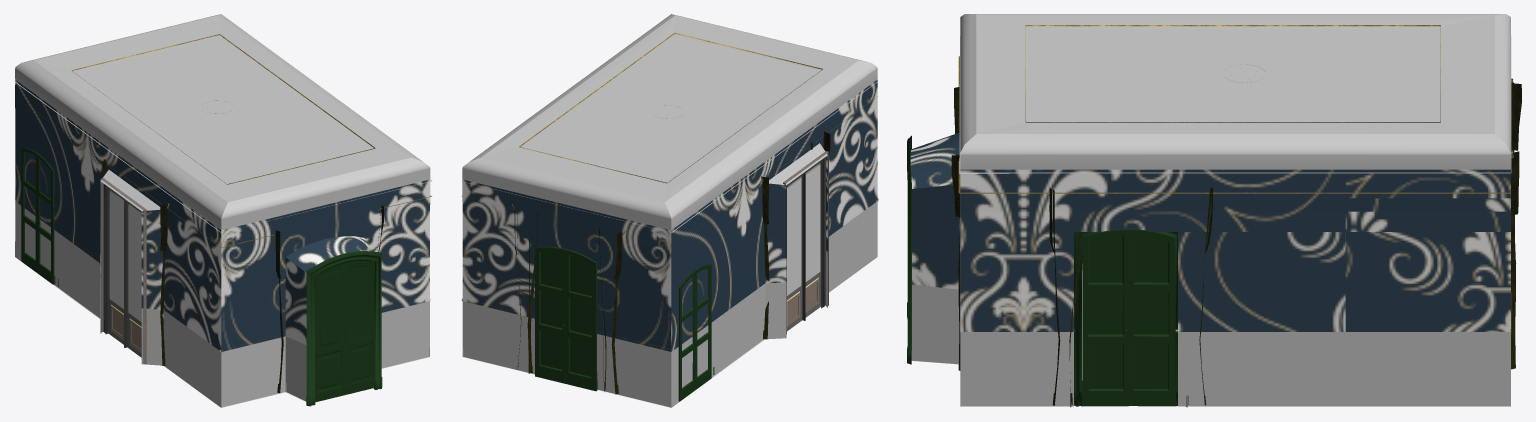
The model's file is Avantsala.fbx.
3 views of the same model, side by side, from view 1: azimuth 30°, elevation 25°; view 2: azimuth 150°, elevation 25°; view 3: azimuth 270°, elevation 25° (orthographic). The views are drawn at different scales.
Parts seen in each view (by area): view 1: Salo Verd.004, Salo Verd._Sostre.001, PortaVidriera_001.002, Porta_fusta_PD_001.003, Porta_fusta_PE_001.003, Porta_fusta_Marc_001.005, Porta_fusta_Marc_001.007, Motllura_sostre.001, Cortina_1.002, Cortina_1.007, Motllura Superior_001.005; view 2: Salo Verd.004, Salo Verd._Sostre.001, PortaVidriera_001.002, Porta_fusta_PE_001.004, Porta_fusta_Marc_001.006, Porta_fusta_Marc_001.007, Cortina_1.006, Cortina_1.002, Motllura_sostre.001, Motllura Superior_001.005; view 3: Salo Verd.004, Salo Verd._Sostre.001, Porta_fusta_PE_001.005, Porta_fusta_PD_001.005, Cortina_1.006, Porta_fusta_PD_001.006, Cortina_1.005, Motllura Superior_001.005, Motllura_sostre.001, Motllura Superior_001.001, Porta_fusta_Marc_001.005, Cortina_1.007.
Boxes of the visible parts, box(x1,y1,x2,y2) form: Salo Verd.004: box(15, 80, 430, 407); Salo Verd._Sostre.001: box(15, 14, 430, 230); PortaVidriera_001.002: box(100, 178, 146, 364); Porta_fusta_PD_001.003: box(345, 260, 374, 394); Porta_fusta_PE_001.003: box(315, 263, 344, 402); Porta_fusta_Marc_001.005: box(306, 251, 382, 406); Porta_fusta_Marc_001.007: box(21, 147, 58, 286); Motllura_sostre.001: box(71, 34, 375, 184); Cortina_1.002: box(102, 156, 169, 365); Cortina_1.007: box(273, 204, 383, 393); Motllura Superior_001.005: box(14, 81, 432, 232); Salo Verd.004: box(462, 79, 877, 407); Salo Verd._Sostre.001: box(462, 14, 877, 230); PortaVidriera_001.002: box(783, 151, 828, 334); Porta_fusta_PE_001.004: box(565, 249, 597, 391); Porta_fusta_Marc_001.006: box(535, 246, 566, 383); Porta_fusta_Marc_001.007: box(678, 264, 714, 401); Cortina_1.006: box(512, 203, 625, 394); Cortina_1.002: box(761, 129, 830, 339); Motllura_sostre.001: box(519, 33, 822, 183); Motllura Superior_001.005: box(461, 81, 877, 232); Salo Verd.004: box(910, 132, 1510, 406); Salo Verd._Sostre.001: box(960, 14, 1510, 169); Porta_fusta_PE_001.005: box(1128, 229, 1175, 406); Porta_fusta_PD_001.005: box(1082, 229, 1128, 406); Cortina_1.006: box(1511, 78, 1521, 369); Porta_fusta_PD_001.006: box(1070, 232, 1187, 407); Cortina_1.005: box(1049, 187, 1212, 405); Motllura Superior_001.005: box(959, 36, 1511, 173); Motllura_sostre.001: box(1025, 25, 1440, 122); Motllura Superior_001.001: box(958, 56, 1510, 193); Porta_fusta_Marc_001.005: box(907, 135, 911, 364); Cortina_1.007: box(951, 87, 960, 370).
Size of the model in its own units: 597 by 498 by 1038.
